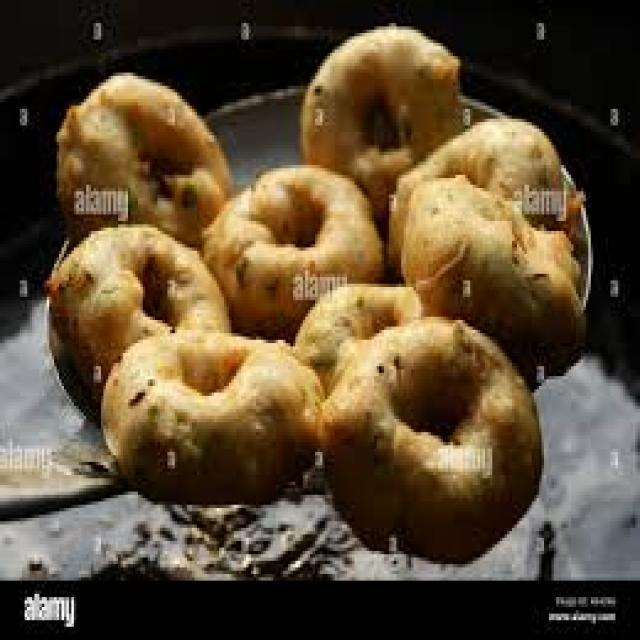MEDU VADA: (318, 322, 543, 573), (102, 334, 313, 502), (299, 25, 463, 198), (60, 73, 230, 232), (202, 169, 378, 316)
